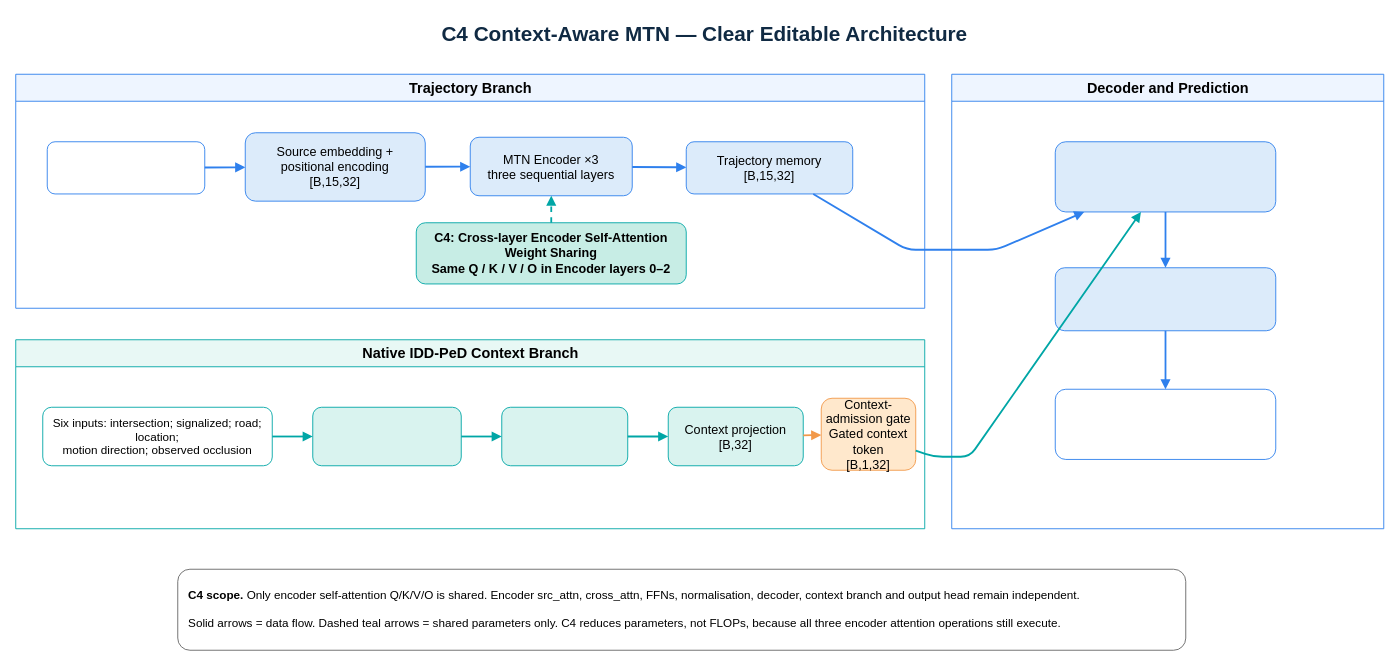
This 1400x666 diagram has some shape labels left out. Here are the shapes that lost their labels. From the top down, the centre of each, then its label:
At point 125,167: "Observed pedestrian trajectory [B,15,4]".
At point 1165,176: "Append context token Augmented decoder memory [B,16,32]".
At point 1165,299: "MTN Decoder ×3 existing flow paths unchanged".
At point 386,436: "Six independent 16-D embeddings".
At point 564,436: "Concatenate [B,96]".
At point 1165,423: "Output head + residual Future trajectory [B,45,4]".
